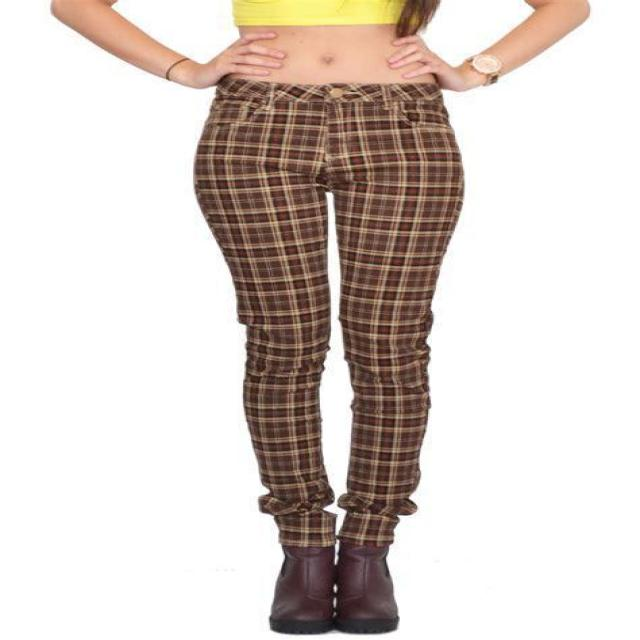pants: (194, 77, 466, 547)
